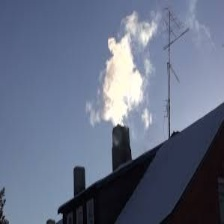smoke: (89, 32, 143, 126)
